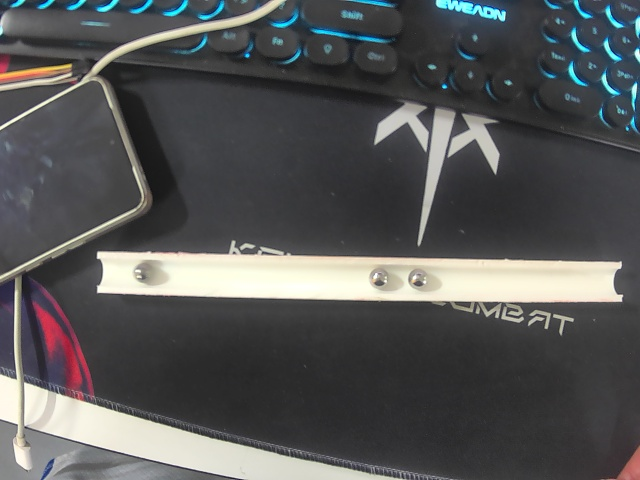steelball: (407, 268, 430, 291), (369, 268, 390, 289), (133, 263, 152, 284)
